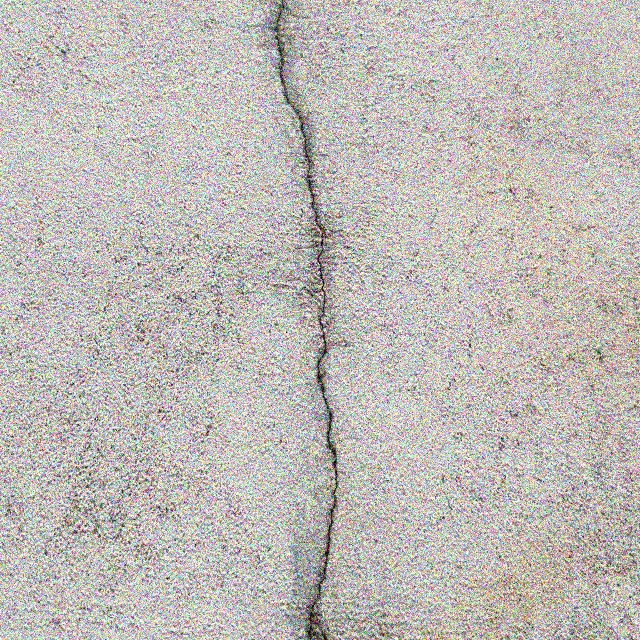SurfaceCrack: (230, 0, 382, 639)
